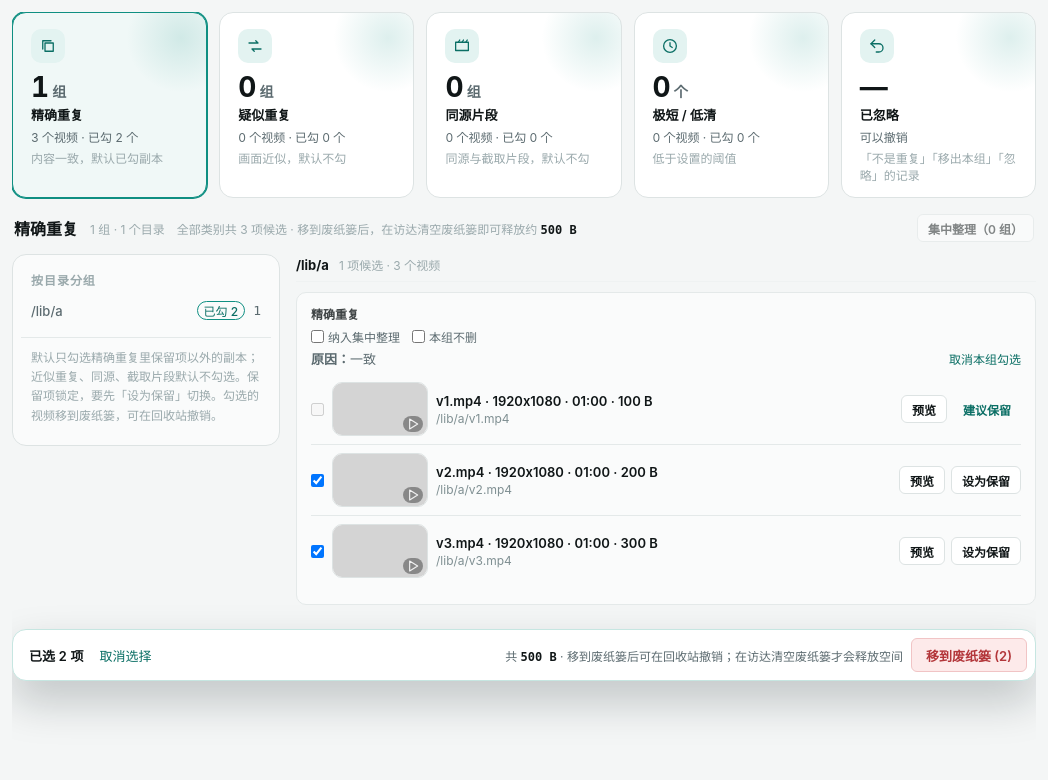
IMG-05 统一的勾选与锁定规则 › D-PC49 保留项的勾选框禁用；「设为保留」换保留项后原保留项可勾但不自动勾上，其余成员按新保留项重算
Expected: the 1st checkbox with test id "cleanup-member-select" is disabled, 311,402 -> 324,416
Expected: the 2nd checkbox with test id "cleanup-member-select" is enabled, 311,474 -> 324,486
Click the button with test id "cleanup-set-keeper" in the row of "v2.mp4 · 1920x1080 · 01:00 · 200 B" at (986, 480), box 951,466 -> 1021,494
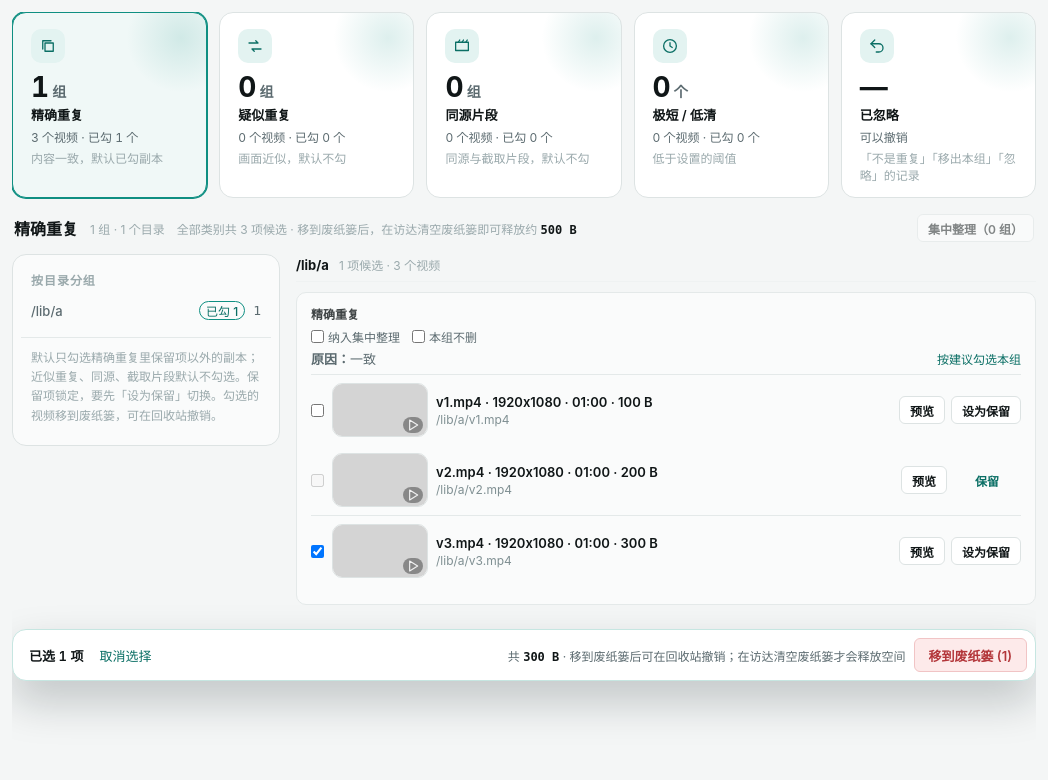
Expected: the 1st checkbox with test id "cleanup-member-select" is enabled, 311,404 -> 324,416
Expected: the 2nd checkbox with test id "cleanup-member-select" is disabled, 311,474 -> 324,486
Expected: the text with test id "cleanup-keeper-label" reads "保留", 975,474 -> 999,488
